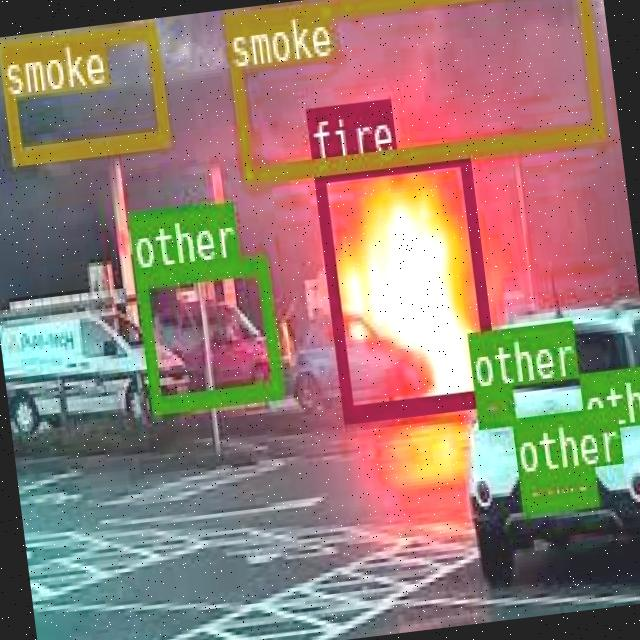fire: (312, 146, 498, 420)
smoke: (221, 0, 604, 181), (0, 21, 166, 159)
